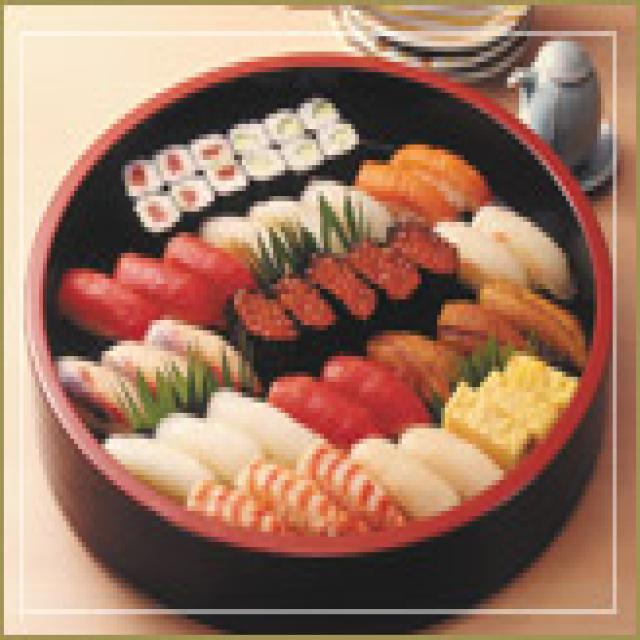寿司卷物: (20, 72, 612, 599)
